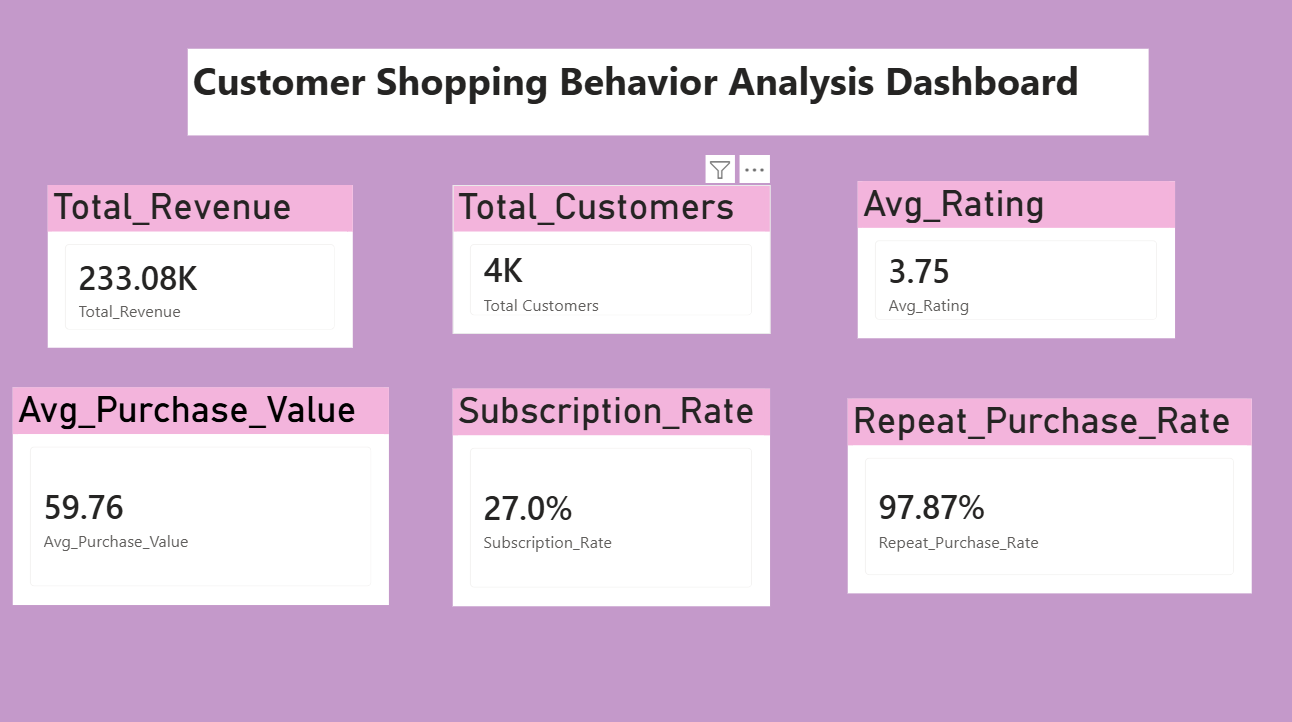

Layout of this report page (visuals, bound fields, positions):
{"tool":"powerbi","page":{"name":"Page 1","canvas":[1280,720],"ordinal":0},"visuals":[{"type":"cardVisual","title":"Total_Customers","fields":{"Data":["Cleaned Customer Data.Total Customers"]},"box":[448.7,190.7,310.1,145.5],"z":0},{"type":"cardVisual","title":"Total_Revenue","fields":{"Data":["Cleaned Customer Data.Total_Revenue"]},"box":[71.4,190.7,300.5,159.2],"z":1000},{"type":"cardVisual","title":"Avg_Purchase_Value","fields":{"Data":["Cleaned Customer Data.Avg_Purchase_Value"]},"box":[38.4,389.7,363.6,212.7],"z":2000},{"type":"cardVisual","title":"Avg_Rating","fields":{"Data":["Cleaned Customer Data.Avg_Rating"]},"box":[845.3,186.6,310.1,153.7],"z":3000},{"type":"cardVisual","title":"Subscription_Rate","fields":{"Data":["cleaned_customer_data.Subscription_Rate"]},"box":[448.7,389.7,310.1,212.7],"z":4000},{"type":"textbox","box":[189.4,57.6,940,85.1],"z":5000},{"type":"cardVisual","title":"Repeat_Purchase_Rate","fields":{"Data":["Cleaned Customer Data.Repeat_Purchase_Rate"]},"box":[835.7,399.3,395.2,190.7],"z":6000}]}

Visuals, with their boxes in screenshot pixels (x1, y1, x2, y2), scaled from the page's 1280x720 canvas onto the 1292x722 screenshot:
"Total_Customers" cardVisual: select_region(453, 191, 766, 337)
"Total_Revenue" cardVisual: select_region(72, 191, 375, 351)
"Avg_Purchase_Value" cardVisual: select_region(39, 391, 406, 604)
"Avg_Rating" cardVisual: select_region(853, 187, 1166, 341)
"Subscription_Rate" cardVisual: select_region(453, 391, 766, 604)
textbox: select_region(191, 58, 1140, 143)
"Repeat_Purchase_Rate" cardVisual: select_region(844, 400, 1242, 592)
